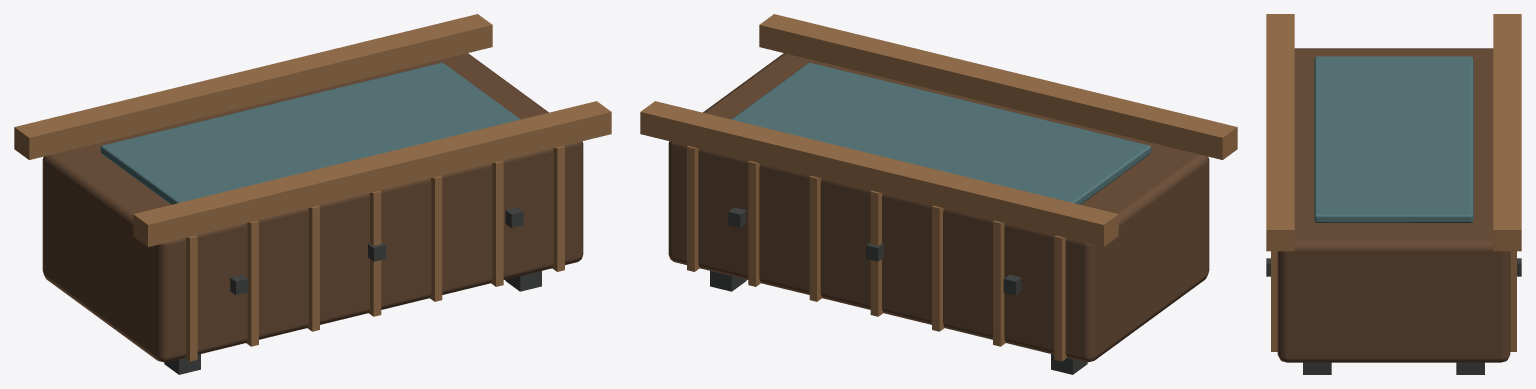
Rendered from bathtub.glb.
3 renders of one model, left to right at view 1: azimuth 30°, elevation 25°; view 2: azimuth 150°, elevation 25°; view 3: azimuth 270°, elevation 25°, orthographic. The views are drawn at different scales.
Parts seen in each view (by area): view 1: bathtub; view 2: bathtub; view 3: bathtub.
Boxes of the visible parts, box(x1,y1,x2,y2) form: bathtub: box(14, 14, 611, 374); bathtub: box(640, 14, 1237, 374); bathtub: box(1266, 14, 1521, 374).
Size of the model in its own units: 2.2 by 0.8 by 1.1.
Materials: 1 (1 with a texture image).
